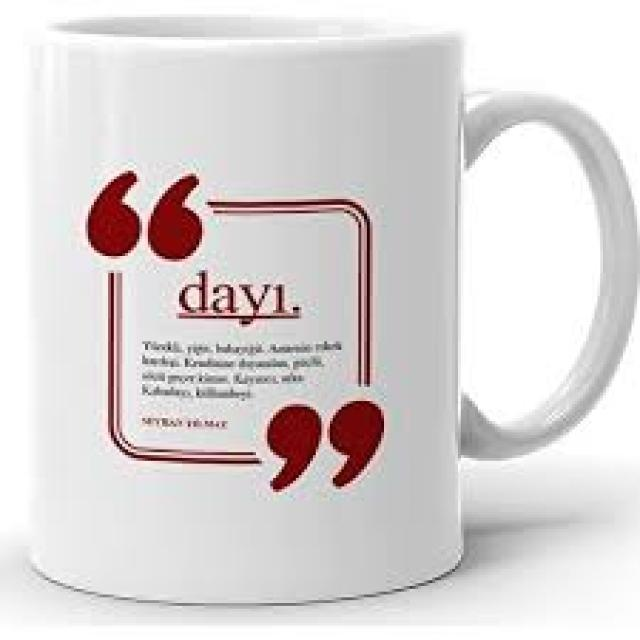taza: (21, 9, 640, 606)
